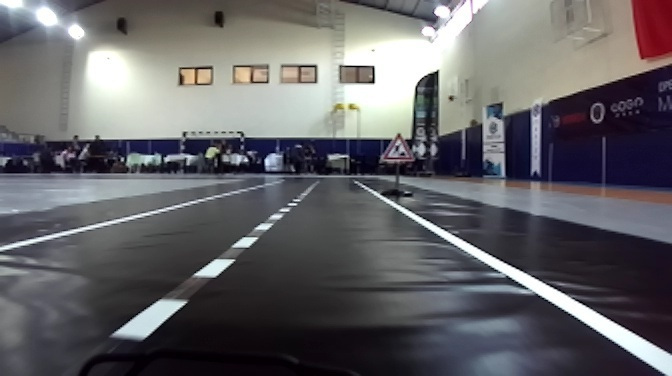yol_yapimi: (378, 126, 414, 163)
